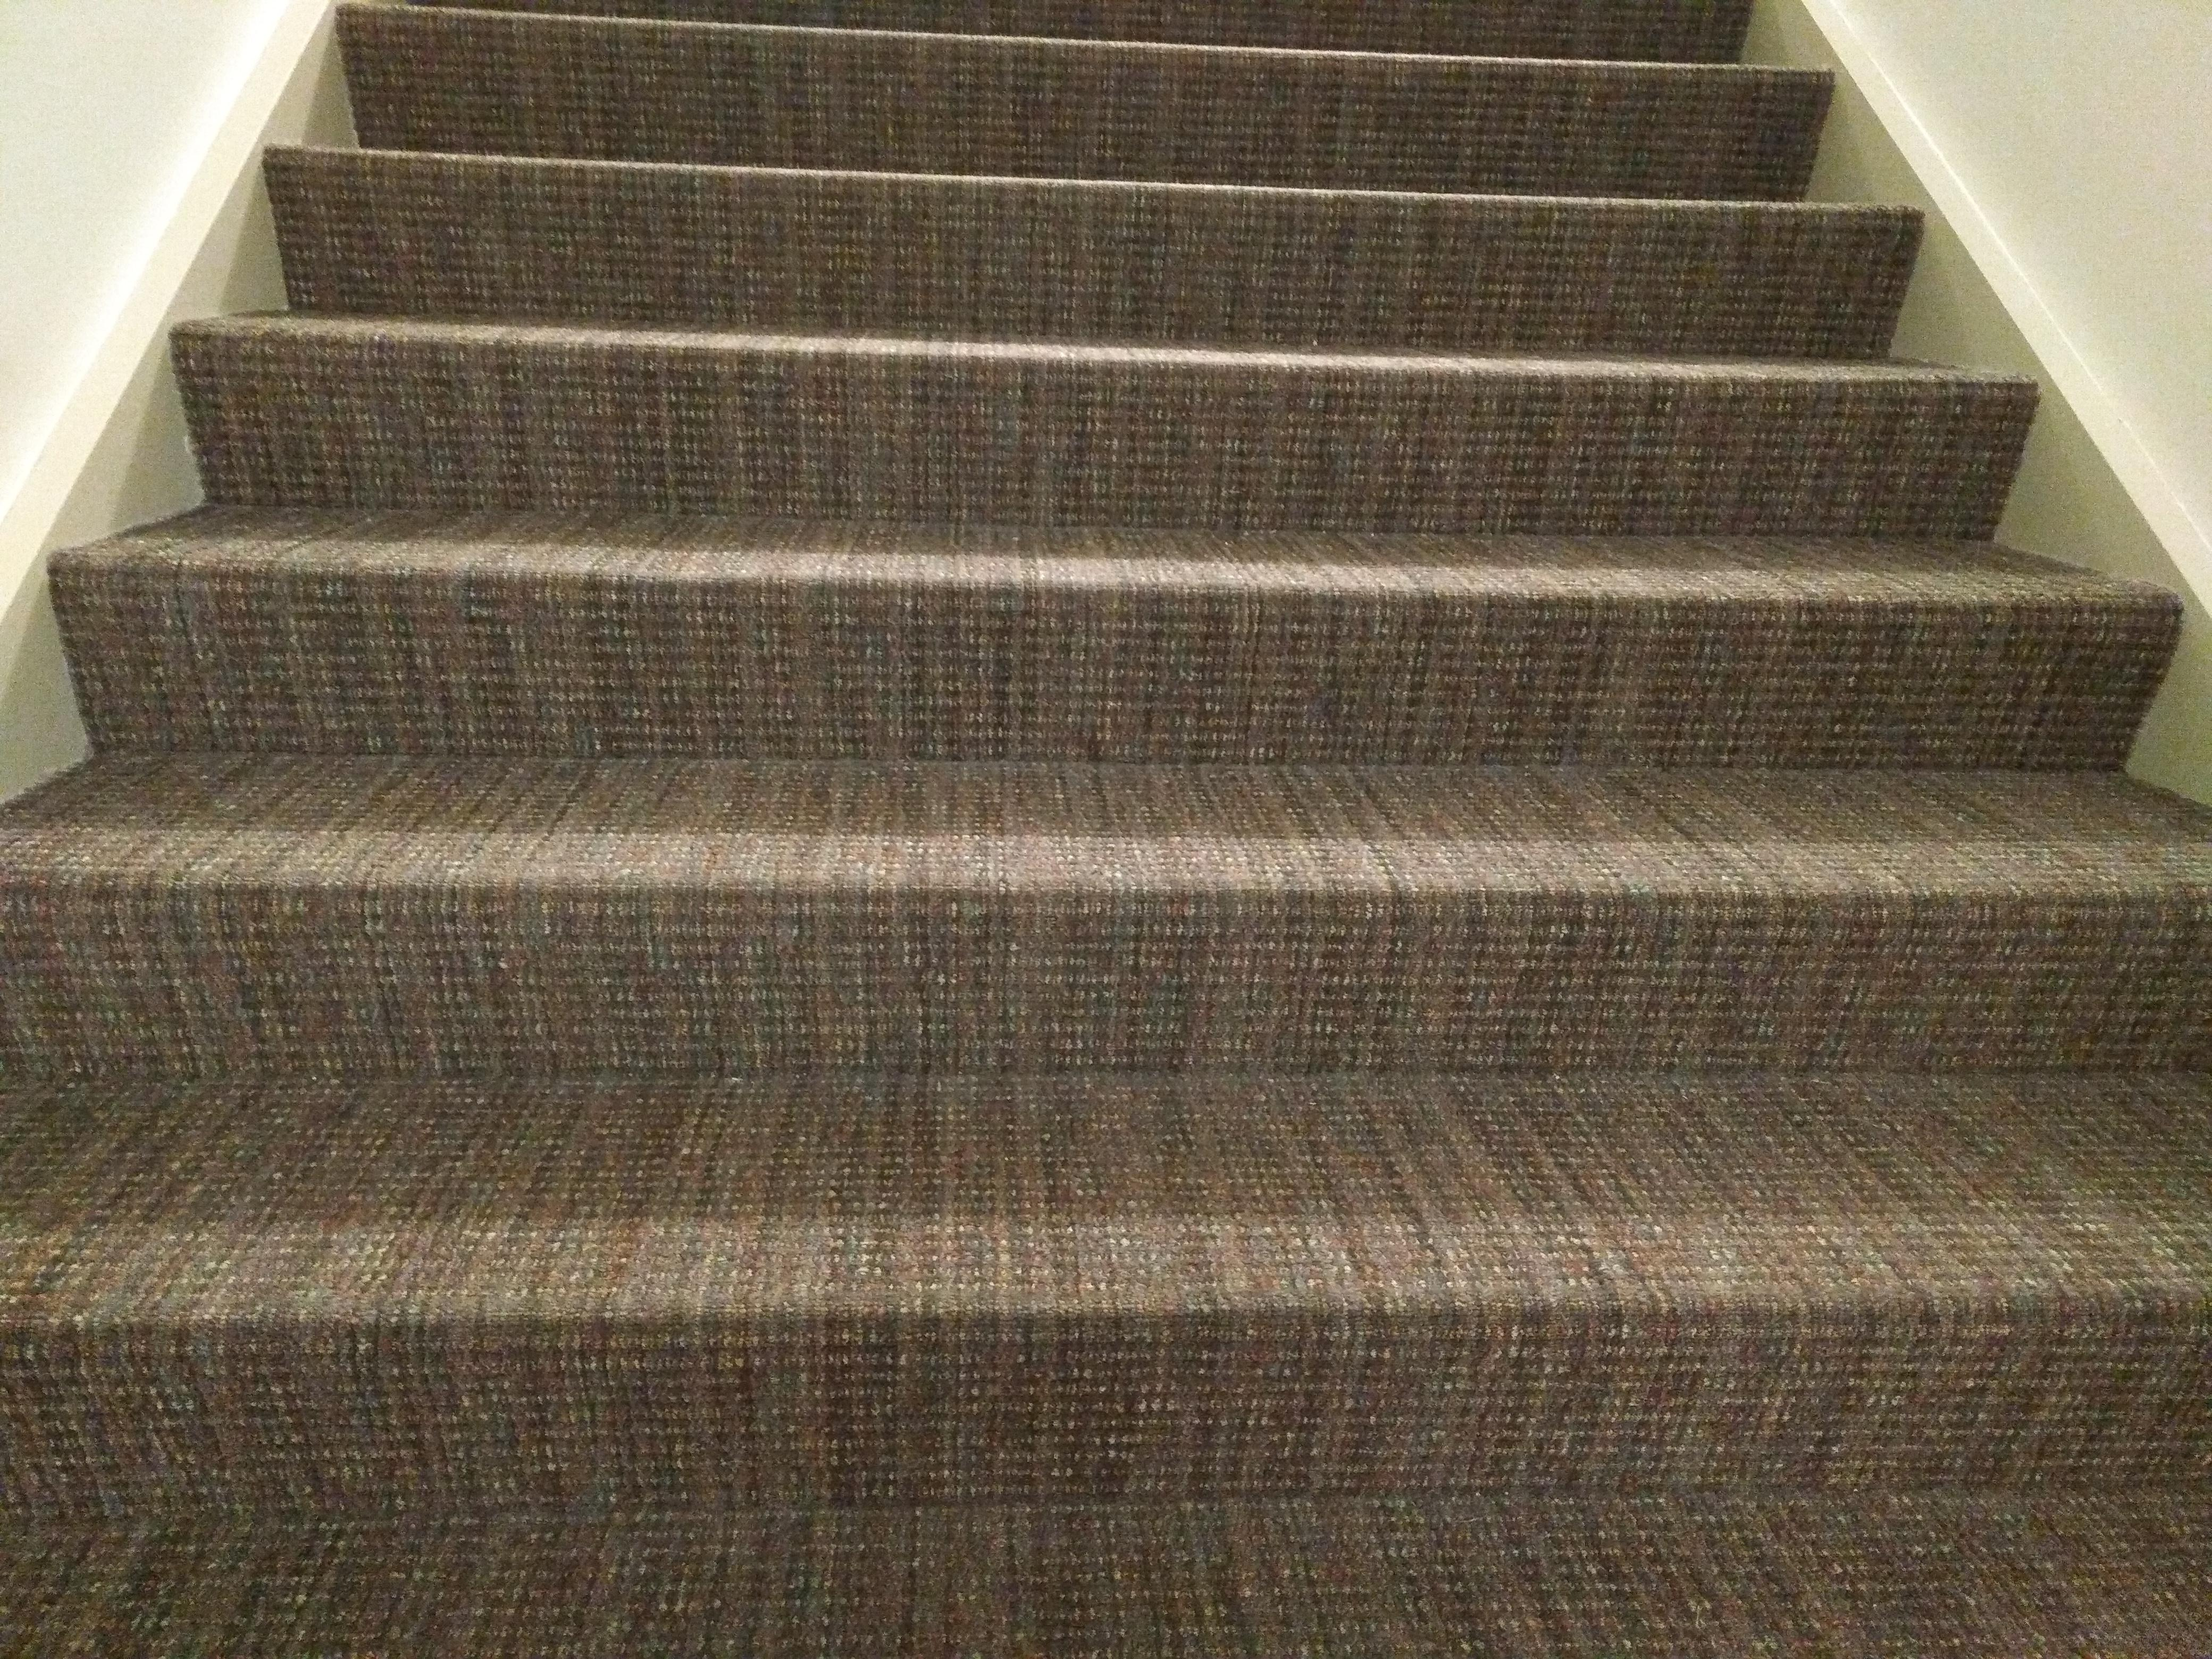stairs_up: (2, 5, 2212, 1561)
